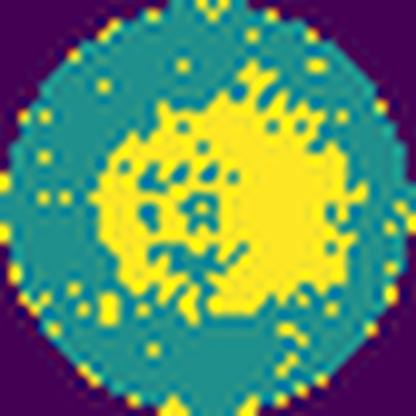Donut: (92, 78, 378, 327)
